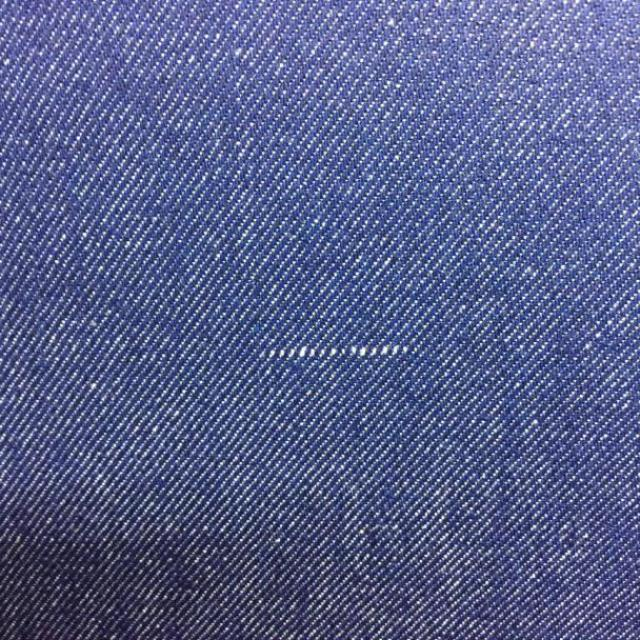Knot: (266, 345, 415, 359)
